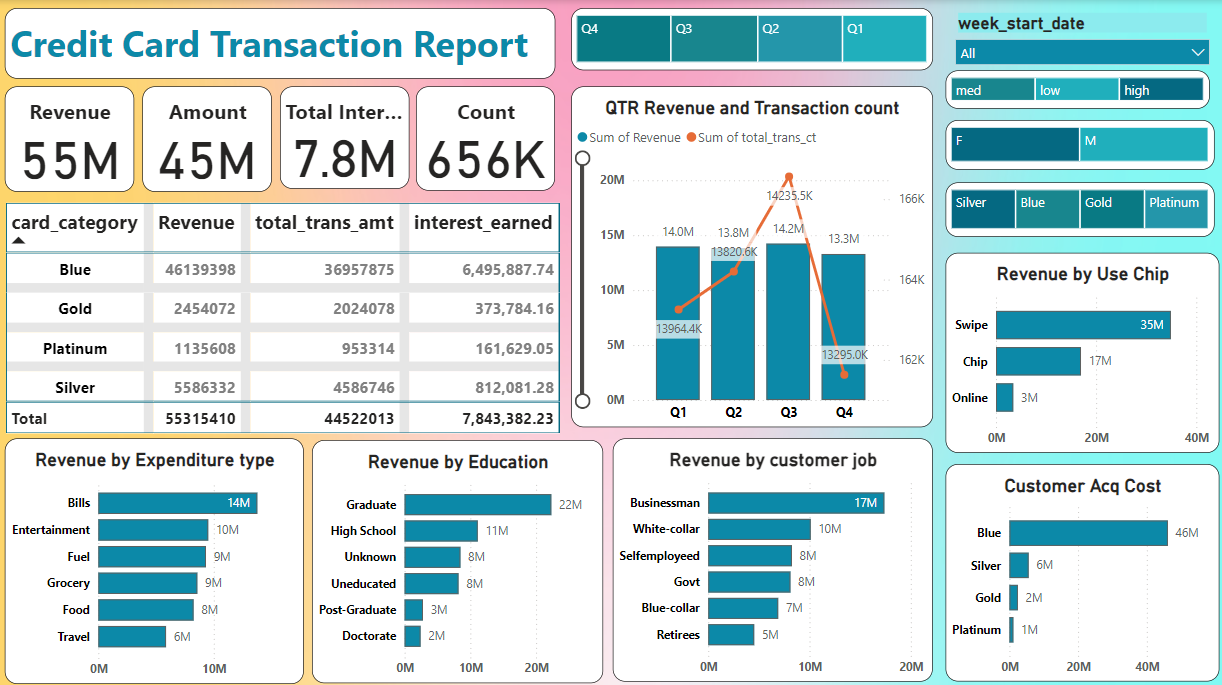

This screenshot's page, from the dashboard's own definition file:
{"tool":"powerbi","page":{"name":"Page 2","canvas":[1280,720],"ordinal":1},"visuals":[{"type":"textbox","box":[5,8.3,574.2,73.4],"z":0},{"type":"lineClusteredColumnComboChart","title":"QTR Revenue and Transaction count","fields":{"Category":["public cc_detail.qtr"],"Y":["Sum(public cc_detail.Revenue)"],"Y2":["Sum(public cc_detail.total_trans_ct)"]},"box":[595.9,90.1,377.3,355.6],"z":1000},{"type":"barChart","title":"Revenue by Expenditure type","fields":{"Category":["public cc_detail.exp_type"],"Y":["Sum(public cc_detail.Revenue)"]},"box":[5,458,312.2,256],"z":2000},{"type":"barChart","title":"Revenue by Education ","fields":{"Category":["public cust_detail.education_level"],"Y":["Sum(public cc_detail.Revenue)"]},"box":[325.5,459.1,303.8,253.7],"z":3000},{"type":"barChart","title":"Revenue by Use Chip","fields":{"Category":["public cc_detail.use_chip"],"Y":["Sum(public cc_detail.Revenue)"]},"box":[986.6,263.8,285.5,208.7],"z":4000},{"type":"barChart","title":"Customer Acq Cost ","fields":{"Category":["public cc_detail.card_category"],"Y":["Sum(public cc_detail.Revenue)"]},"box":[986.6,484.1,285.5,227],"z":5000},{"type":"treemap","title":"Revenue by exp_type","fields":{"Group":["public cc_detail.qtr"],"Values":["Avg(public cust_detail.client_num)"]},"box":[595.9,8.3,377.3,65.1],"z":6000},{"type":"tableEx","fields":{"Values":["public cc_detail.card_category","Sum(public cc_detail.Revenue)","Sum(public cc_detail.total_trans_amt)","Sum(public cc_detail.interest_earned)"]},"box":[0,201,595.9,327.2],"z":7000},{"type":"card","title":"Revenue","fields":{"Values":["Sum(public cc_detail.Revenue)"]},"box":[5,90.1,135,110],"z":8000},{"type":"card","title":"Amount ","fields":{"Values":["Sum(public cc_detail.total_trans_amt)"]},"box":[148,90.1,135.2,110.2],"z":9000},{"type":"card","title":"Total Interest","fields":{"Values":["Sum(public cc_detail.interest_earned)"]},"box":[292,90.1,135.2,106.8],"z":10000},{"type":"card","title":"Count ","fields":{"Values":["Sum(public cc_detail.total_trans_ct)"]},"box":[434,90.1,145.2,108.5],"z":11000},{"type":"slicer","fields":{"Values":["public cc_detail.week_start_date"]},"box":[986.6,8.3,285.5,81.8],"z":12000},{"type":"treemap","title":"Revenue by exp_type","fields":{"Group":["public cust_detail.gender"],"Values":["Avg(public cust_detail.client_num)"]},"box":[986.6,125.2,280.4,51.7],"z":13000},{"type":"treemap","title":"Revenue by exp_type","fields":{"Group":["public cc_detail.card_category"],"Values":["Avg(public cust_detail.client_num)"]},"box":[986.6,190.3,280.4,56.8],"z":14000},{"type":"treemap","title":"Revenue by exp_type","fields":{"Group":["public cust_detail.IncomeGroup"],"Values":["Avg(public cust_detail.client_num)"]},"box":[986.6,73.4,275.4,40.1],"z":15000},{"type":"barChart","title":"Revenue by customer job","fields":{"Category":["public cust_detail.customer_job"],"Y":["Sum(public cc_detail.Revenue)"]},"box":[639.3,457.4,333.9,253.7],"z":16000}]}

Visuals, with their boxes in screenshot pixels (x1, y1, x2, y2), scaled from the page's 1280x720 canvas onto the 1222x685 screenshot:
textbox: <box>5,8,553,78</box>
"QTR Revenue and Transaction count" lineClusteredColumnComboChart: <box>569,86,929,424</box>
"Revenue by Expenditure type" barChart: <box>5,436,303,679</box>
"Revenue by Education " barChart: <box>311,437,601,678</box>
"Revenue by Use Chip" barChart: <box>942,251,1214,450</box>
"Customer Acq Cost " barChart: <box>942,461,1214,677</box>
"Revenue by exp_type" treemap: <box>569,8,929,70</box>
tableEx - public cc_detail.card_category x Sum(public cc_detail.Revenue): <box>0,191,569,503</box>
"Revenue" card: <box>5,86,134,190</box>
"Amount " card: <box>141,86,270,191</box>
"Total Interest" card: <box>279,86,408,187</box>
"Count " card: <box>414,86,553,189</box>
slicer - public cc_detail.week_start_date: <box>942,8,1214,86</box>
"Revenue by exp_type" treemap: <box>942,119,1210,168</box>
"Revenue by exp_type" treemap: <box>942,181,1210,235</box>
"Revenue by exp_type" treemap: <box>942,70,1205,108</box>
"Revenue by customer job" barChart: <box>610,435,929,677</box>
